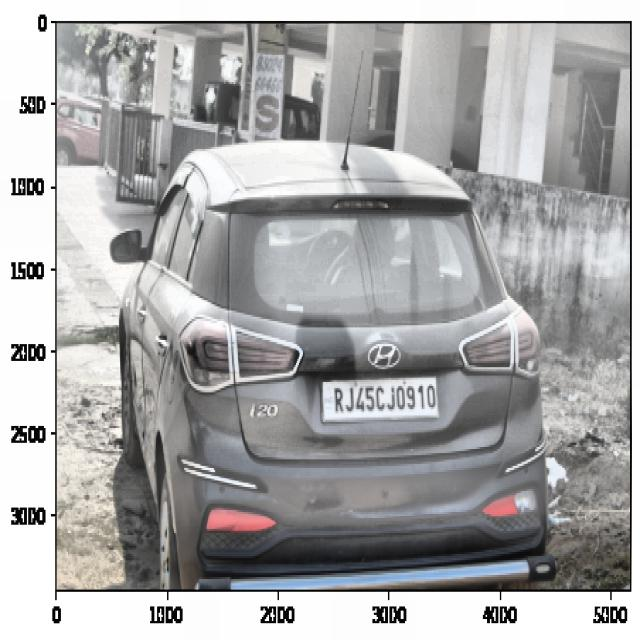license_plate: (328, 378, 439, 421)
